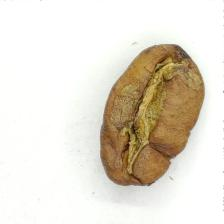NG: (116, 44, 201, 180)
